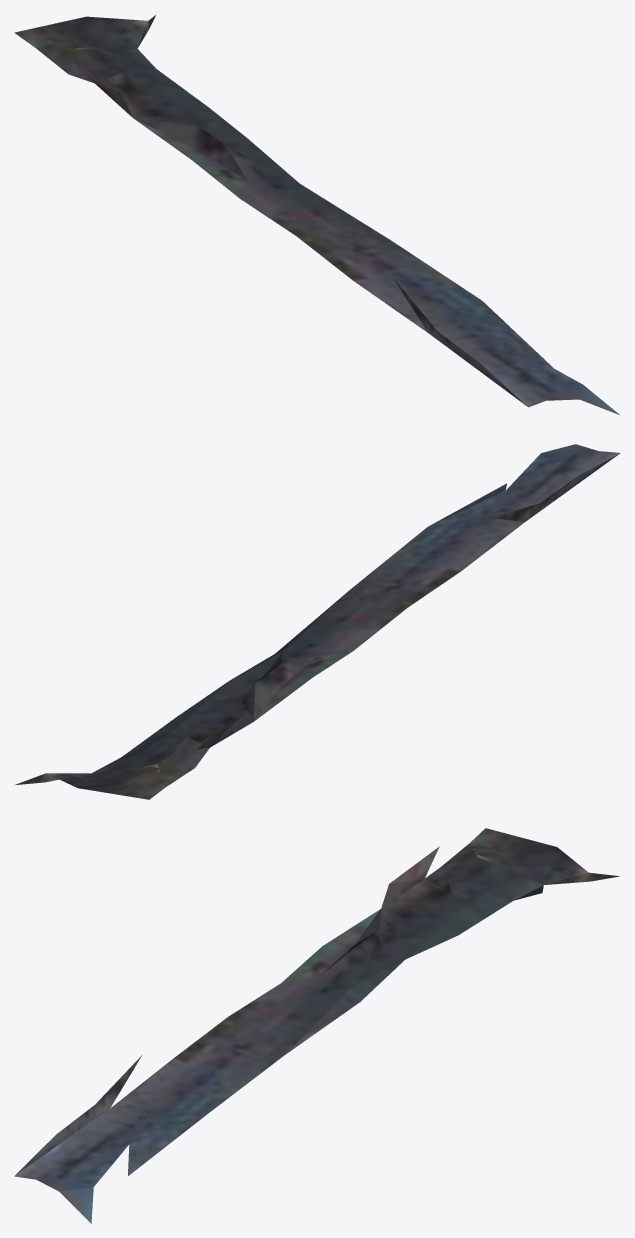
File: meshes_1-dynamic - BLK2GO-3630355-Scan 080 2.obj
3 views of the same model, one above another, from view 1: azimuth 30°, elevation 25°; view 2: azimuth 150°, elevation 25°; view 3: azimuth 330°, elevation 25° (orthographic). The views are drawn at different scales.
Parts seen in each view (by area): view 1: 1-dynamic_-_BLK2GO-3630355-Scan_080_2_0; view 2: 1-dynamic_-_BLK2GO-3630355-Scan_080_2_0; view 3: 1-dynamic_-_BLK2GO-3630355-Scan_080_2_0.
Part boxes in pixels (bbox=[...]): 1-dynamic_-_BLK2GO-3630355-Scan_080_2_0: bbox=[14, 15, 619, 414]; 1-dynamic_-_BLK2GO-3630355-Scan_080_2_0: bbox=[14, 444, 620, 799]; 1-dynamic_-_BLK2GO-3630355-Scan_080_2_0: bbox=[14, 828, 619, 1223].
Size of the model in its own units: 0.2676 by 0.1029 by 1.67.
1 material, 1 textured.
